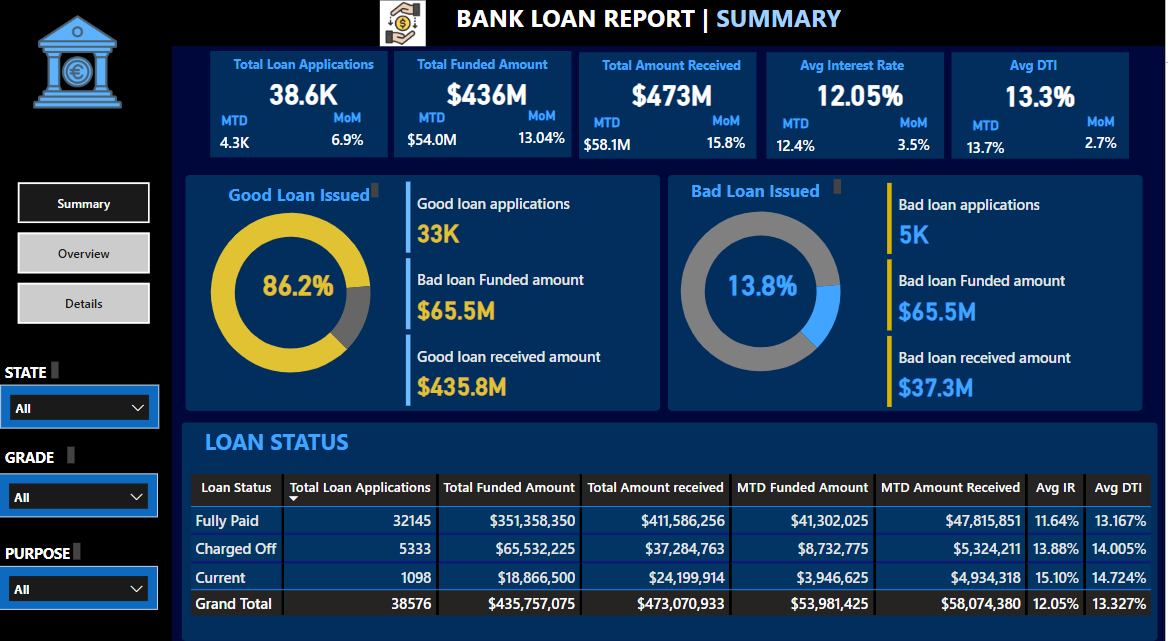

The page's visual inventory and layout, read from the dashboard file:
{"tool":"powerbi","page":{"name":"Summary","canvas":[1280,720],"ordinal":0},"visuals":[{"type":"shape","box":[433.1,60.1,194.8,116.9],"z":0,"group":"g1"},{"type":"shape","box":[231.9,60.9,194.8,116.9],"z":0,"group":"g5"},{"type":"shape","box":[1045.3,61.7,194.8,116.9],"z":0,"group":"g4"},{"type":"shape","box":[842.3,62,194.8,116.9],"z":0,"group":"g3"},{"type":"shape","box":[637.3,62.4,194.8,116.9],"z":0,"group":"g2"},{"type":"shape","box":[205,196.8,521.4,259.3],"z":0},{"type":"shape","box":[0,0,1280.3,54.9],"z":1000},{"type":"card","fields":{"Values":["Bank_Loan_Data.Total Funded Amount"]},"box":[474.1,79.1,122,53],"z":1000,"group":"g1"},{"type":"card","fields":{"Values":["Bank_Loan_Data.Total Loan Application"]},"box":[272.9,79.9,122,53],"z":1000,"group":"g5"},{"type":"card","fields":{"Values":["Bank_Loan_Data.Average Intrest Rate"]},"box":[883.3,81,122,53],"z":1000,"group":"g3"},{"type":"card","fields":{"Values":["Bank_Loan_Data.Total Amount received"]},"box":[678.3,81.4,122,53],"z":1000,"group":"g2"},{"type":"card","fields":{"Values":["Bank_Loan_Data.Avg DTI"]},"box":[1080.6,82.7,122.1,52.1],"z":1000,"group":"g4"},{"type":"shape","box":[0,54.5,189.6,664.9],"z":2000},{"type":"textbox","box":[453.1,60.2,175,30],"z":2000,"group":"g1"},{"type":"textbox","box":[251.9,61,175,30],"z":2000,"group":"g5"},{"type":"textbox","box":[1065.3,61.8,175,30],"z":2000,"group":"g4"},{"type":"textbox","box":[862.3,62.1,175,30],"z":2000,"group":"g3"},{"type":"textbox","box":[657.3,62.5,175,30],"z":2000,"group":"g2"},{"type":"textbox","box":[1.4,396.6,68.6,30.2],"z":3000},{"type":"card","fields":{"Values":["Bank_Loan_Data.Good Loan %"]},"box":[267.6,289.5,122.1,52.1],"z":4000},{"type":"textbox","box":[496.3,0,537,45.7],"z":5000},{"type":"group","id":"g1","title":"Group 1","box":[433.1,60.1,195.1,117.3],"z":6000},{"type":"card","title":"MTD","fields":{"Values":["Bank_Loan_Data.MTD Funded Amount"]},"box":[437.9,124.5,75,53],"z":7000},{"type":"card","title":"MoM","fields":{"Values":["Bank_Loan_Data.MoM Total Funded Amount"]},"box":[562.7,121.8,66.7,53.1],"z":8000},{"type":"group","id":"g2","title":"Group 1","box":[637.3,62.4,195,116.9],"z":9000},{"type":"card","title":"MTD","fields":{"Values":["Bank_Loan_Data.MTD Amount Received"]},"box":[636,130,64,53],"z":10000},{"type":"card","title":"MoM","fields":{"Values":["Bank_Loan_Data.MoM Total Funded Amount  Received"]},"box":[769.6,127.4,57,53],"z":11000},{"type":"group","id":"g3","title":"Group 1","box":[842.3,62,194.9,116.6],"z":12000},{"type":"card","title":"MTD","fields":{"Values":["Bank_Loan_Data.MTD Avg Interest Rate"]},"box":[842.5,132.3,64,53],"z":13000},{"type":"card","title":"MoM","fields":{"Values":["Bank_Loan_Data.MoM Avg Interest Day"]},"box":[976.1,129.7,57,53],"z":14000},{"type":"group","id":"g4","title":"Group 1","box":[1045.3,61.7,195,116.9],"z":15000},{"type":"card","title":"MTD","fields":{"Values":["Bank_Loan_Data.MTD Avg DTI"]},"box":[1051.6,132.5,64,53],"z":16000},{"type":"donutChart","fields":{"Category":["Bank_Loan_Data.Good vs Bad Loan"],"Y":["Bank_Loan_Data.Total Loan Application"]},"box":[175.6,211.3,289.5,229.2],"z":17000},{"type":"card","title":"MoM","fields":{"Values":["Bank_Loan_Data.MoM Avg DTI"]},"box":[1181.5,129,56.3,52.1],"z":18000},{"type":"group","id":"g5","title":"Group 1","box":[231.9,60.9,194.9,116.6],"z":19000},{"type":"card","title":"MTD","fields":{"Values":["Bank_Loan_Data.MTD Loan Applications"]},"box":[220.5,127.3,75,53],"z":20000},{"type":"card","title":"MoM","fields":{"Values":["Bank_Loan_Data.MoM Loan Application"]},"box":[354.5,124.3,57,53],"z":21000},{"type":"shape","box":[733.6,195.7,521.4,259.3],"z":22000},{"type":"cardVisual","fields":{"Data":["Bank_Loan_Data.Good loan applications","Bank_Loan_Data.Good loan Funded amount","Bank_Loan_Data.Good loan received amount"]},"box":[442.4,199.5,289.5,258],"z":23000},{"type":"donutChart","fields":{"Category":["Bank_Loan_Data.Good vs Bad Loan"],"Y":["Bank_Loan_Data.Total Loan Application"]},"box":[691.6,209.9,289.5,229.2],"z":24000},{"type":"textbox","box":[754.7,196.2,174.3,30.2],"z":25000},{"type":"card","fields":{"Values":["Bank_Loan_Data.Bad Loan %"]},"box":[776.4,289.5,122.1,52.1],"z":26000},{"type":"cardVisual","fields":{"Data":["Bank_Loan_Data.Bad loan applications","Bank_Loan_Data.Bad loan Funded amount","Bank_Loan_Data.Bad loan received amount"]},"box":[970.2,200.3,289.5,258],"z":27000},{"type":"shape","box":[200.3,467.9,1071.7,240.1],"z":28000},{"type":"tableEx","fields":{"Values":["Bank_Loan_Data.loan_status","Bank_Loan_Data.Total Loan Application","Bank_Loan_Data.Total Funded Amount","Bank_Loan_Data.Total Amount received","Bank_Loan_Data.MTD Funded Amount","Bank_Loan_Data.MTD Amount Received","Bank_Loan_Data.Average Intrest Rate","Bank_Loan_Data.Avg DTI"]},"box":[204.5,520.1,1071.7,188],"z":29000},{"type":"textbox","box":[220.9,467.9,253.9,52.1],"z":30000},{"type":"slicer","fields":{"Values":["Bank_Loan_Data.address_state"]},"box":[1.4,426.8,174.3,48],"z":31000},{"type":"textbox","box":[247,200.3,174.3,30.2],"z":32000},{"type":"slicer","fields":{"Values":["Bank_Loan_Data.grade"]},"box":[0,524.2,174.3,48],"z":33000},{"type":"textbox","box":[1.4,489.9,86.4,30.2],"z":34000},{"type":"slicer","fields":{"Values":["Bank_Loan_Data.purpose"]},"box":[0,625.7,174.3,48],"z":35000},{"type":"textbox","box":[1.4,595.5,93.3,30.2],"z":36000},{"type":"image","box":[411.7,0,63.1,60.4],"z":36001},{"type":"image","box":[30.2,12.3,112.5,119.4],"z":36002},{"type":"pageNavigator","box":[20.6,204.5,145.5,155.1],"z":36003}]}

Visuals, with their boxes in screenshot pixels (x1, y1, x2, y2), scaled from the page's 1280x720 canvas onto the 1168x641 screenshot:
shape: [x1=395, y1=54, x2=573, y2=158]
shape: [x1=212, y1=54, x2=389, y2=158]
shape: [x1=954, y1=55, x2=1132, y2=159]
shape: [x1=769, y1=55, x2=946, y2=159]
shape: [x1=582, y1=56, x2=759, y2=160]
shape: [x1=187, y1=175, x2=663, y2=406]
shape: [x1=0, y1=0, x2=1167, y2=49]
card - Bank_Loan_Data.Total Funded Amount: [x1=433, y1=70, x2=544, y2=118]
card - Bank_Loan_Data.Total Loan Application: [x1=249, y1=71, x2=360, y2=118]
card - Bank_Loan_Data.Average Intrest Rate: [x1=806, y1=72, x2=917, y2=119]
card - Bank_Loan_Data.Total Amount received: [x1=619, y1=72, x2=730, y2=120]
card - Bank_Loan_Data.Avg DTI: [x1=986, y1=74, x2=1097, y2=120]
shape: [x1=0, y1=49, x2=173, y2=640]
textbox: [x1=413, y1=54, x2=573, y2=80]
textbox: [x1=230, y1=54, x2=390, y2=81]
textbox: [x1=972, y1=55, x2=1132, y2=82]
textbox: [x1=787, y1=55, x2=947, y2=82]
textbox: [x1=600, y1=56, x2=759, y2=82]
textbox: [x1=1, y1=353, x2=64, y2=380]
card - Bank_Loan_Data.Good Loan %: [x1=244, y1=258, x2=356, y2=304]
textbox: [x1=453, y1=0, x2=943, y2=41]
"Group 1" group: [x1=395, y1=54, x2=573, y2=158]
"MTD" card: [x1=400, y1=111, x2=468, y2=158]
"MoM" card: [x1=513, y1=108, x2=574, y2=156]
"Group 1" group: [x1=582, y1=56, x2=759, y2=160]
"MTD" card: [x1=580, y1=116, x2=639, y2=163]
"MoM" card: [x1=702, y1=113, x2=754, y2=161]
"Group 1" group: [x1=769, y1=55, x2=946, y2=159]
"MTD" card: [x1=769, y1=118, x2=827, y2=165]
"MoM" card: [x1=891, y1=115, x2=943, y2=163]
"Group 1" group: [x1=954, y1=55, x2=1132, y2=159]
"MTD" card: [x1=960, y1=118, x2=1018, y2=165]
donutChart - Bank_Loan_Data.Good vs Bad Loan x Bank_Loan_Data.Total Loan Application: [x1=160, y1=188, x2=424, y2=392]
"MoM" card: [x1=1078, y1=115, x2=1129, y2=161]
"Group 1" group: [x1=212, y1=54, x2=389, y2=158]
"MTD" card: [x1=201, y1=113, x2=270, y2=161]
"MoM" card: [x1=323, y1=111, x2=375, y2=158]
shape: [x1=669, y1=174, x2=1145, y2=405]
cardVisual - Bank_Loan_Data.Good loan applications x Bank_Loan_Data.Good loan Funded amount: [x1=404, y1=178, x2=668, y2=407]
donutChart - Bank_Loan_Data.Good vs Bad Loan x Bank_Loan_Data.Total Loan Application: [x1=631, y1=187, x2=895, y2=391]
textbox: [x1=689, y1=175, x2=848, y2=202]
card - Bank_Loan_Data.Bad Loan %: [x1=708, y1=258, x2=820, y2=304]
cardVisual - Bank_Loan_Data.Bad loan applications x Bank_Loan_Data.Bad loan Funded amount: [x1=885, y1=178, x2=1149, y2=408]
shape: [x1=183, y1=417, x2=1161, y2=630]
tableEx - Bank_Loan_Data.loan_status x Bank_Loan_Data.Total Loan Application: [x1=187, y1=463, x2=1165, y2=630]
textbox: [x1=202, y1=417, x2=433, y2=463]
slicer - Bank_Loan_Data.address_state: [x1=1, y1=380, x2=160, y2=423]
textbox: [x1=225, y1=178, x2=384, y2=205]
slicer - Bank_Loan_Data.grade: [x1=0, y1=467, x2=159, y2=509]
textbox: [x1=1, y1=436, x2=80, y2=463]
slicer - Bank_Loan_Data.purpose: [x1=0, y1=557, x2=159, y2=600]
textbox: [x1=1, y1=530, x2=86, y2=557]
image: [x1=376, y1=0, x2=433, y2=54]
image: [x1=28, y1=11, x2=130, y2=117]
pageNavigator: [x1=19, y1=182, x2=152, y2=320]
